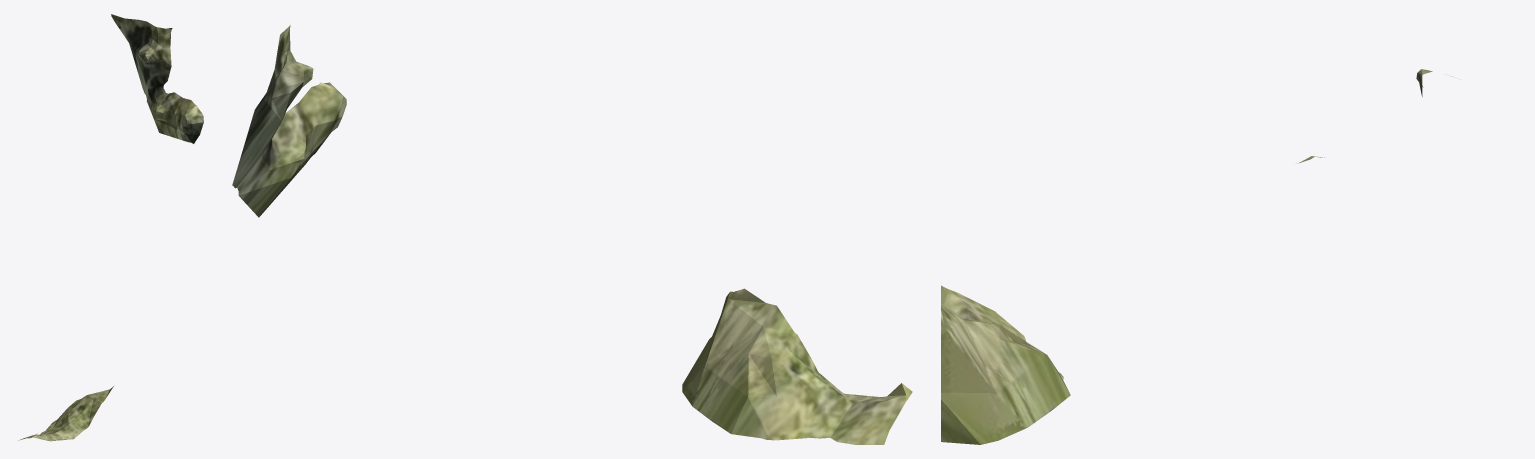
The picture shows the model from 3 angles, left to right: view 1: azimuth 30°, elevation 25°; view 2: azimuth 150°, elevation 25°; view 3: azimuth 270°, elevation 25°; orthographic projection. The views are drawn at different scales.
Size of the model in its own units: 5.9 by 5.9 by 5.9.
Materials: 1 (1 with a texture image).
